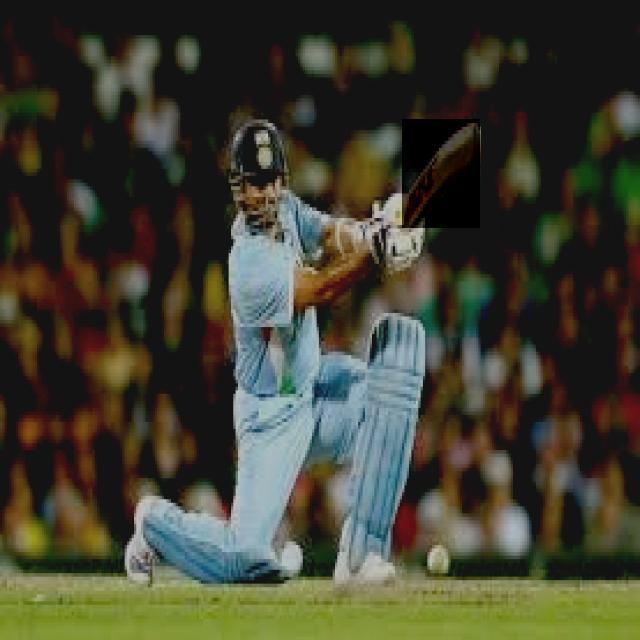bat: (400, 115, 487, 227)
toe: (470, 113, 484, 155)
